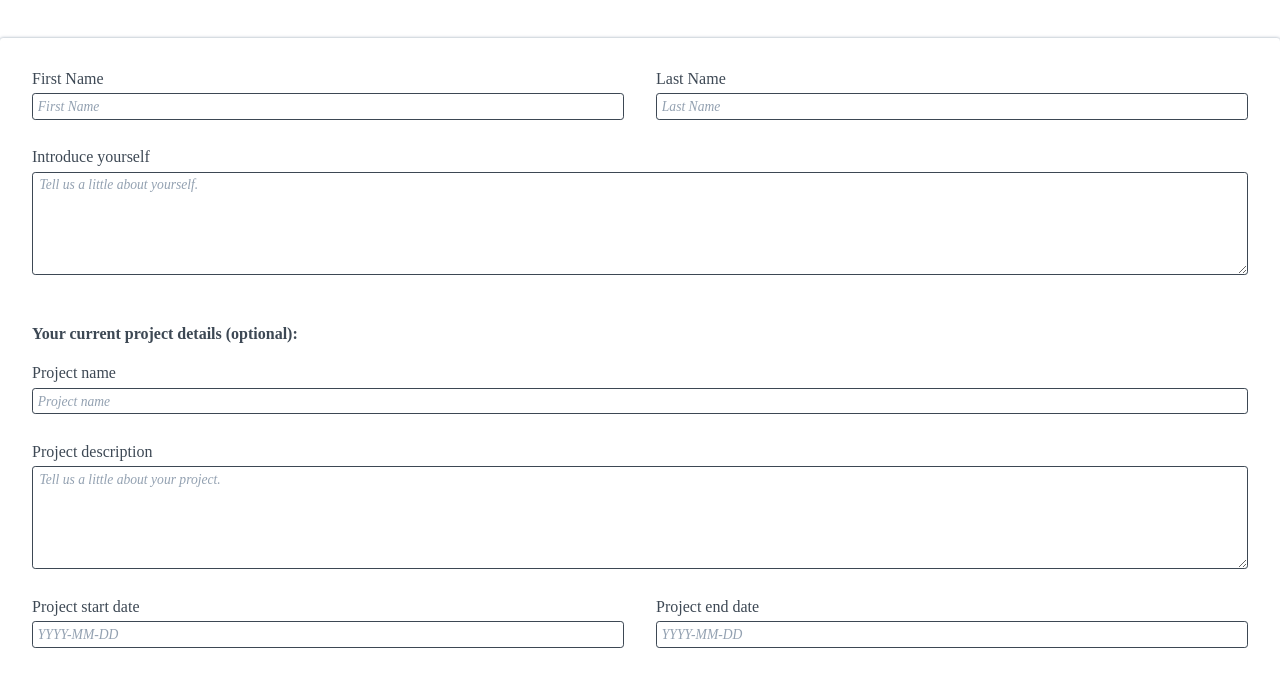
Producer Profile Form › should show project name error if description is filled in
Step 1. Type "Lorem ipsum..." into the text box with test id "projectDescription-input" → (640, 518), box 32,466 -> 1248,569
(page scrolled)
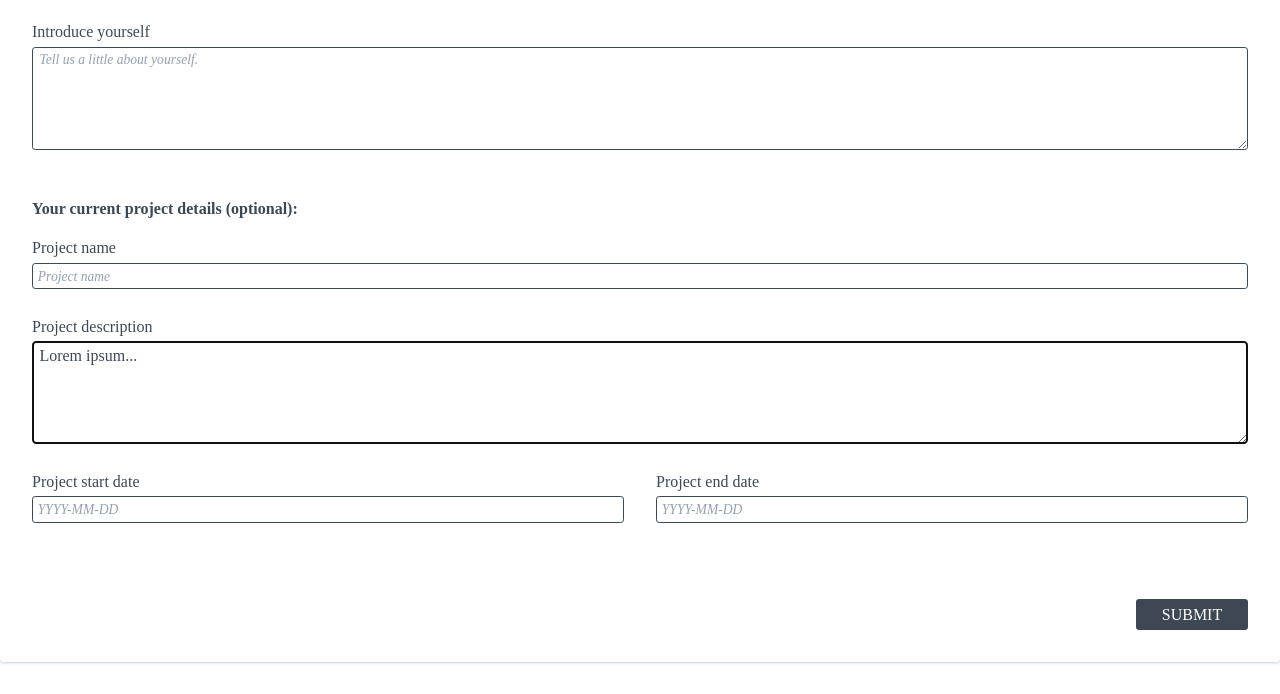
Step 2. Click the button with test id "submit-button" → click(1192, 615), box 1136,599 -> 1248,630
(page scrolled)
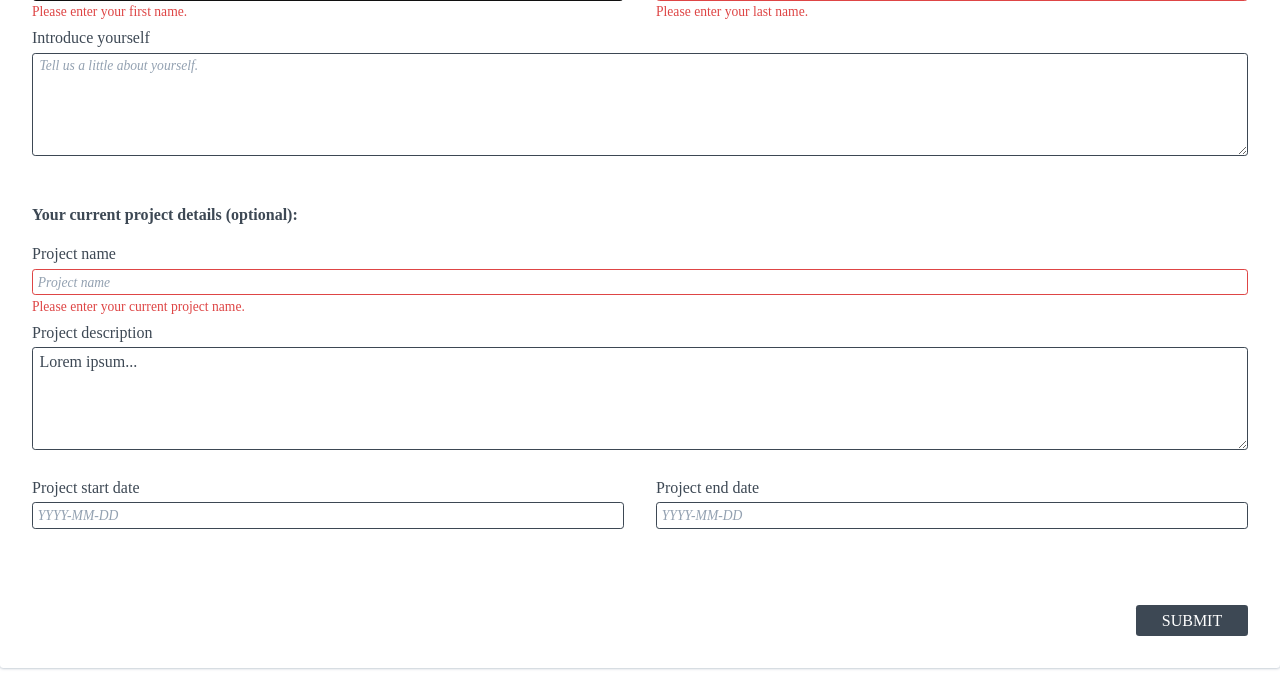
Check: the message with test id "projectName-error" reads "Please enter your current project name.", box 32,299 -> 245,314
